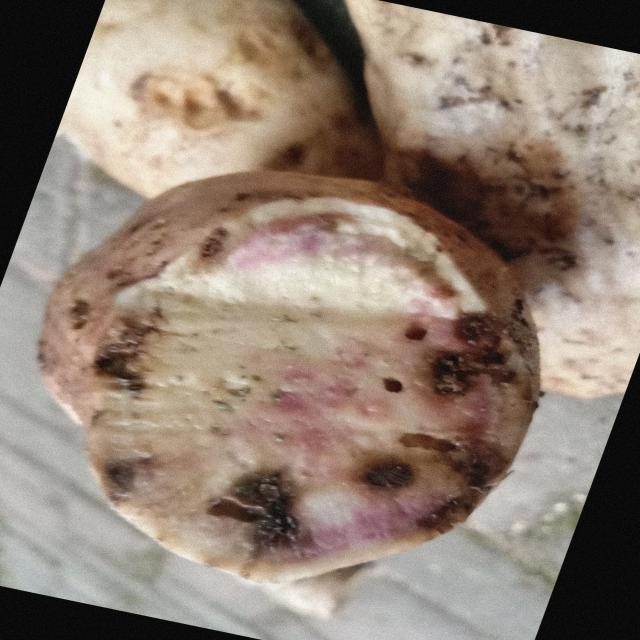Sick Sweet Potato_Tuber Rot: (83, 172, 538, 582)
